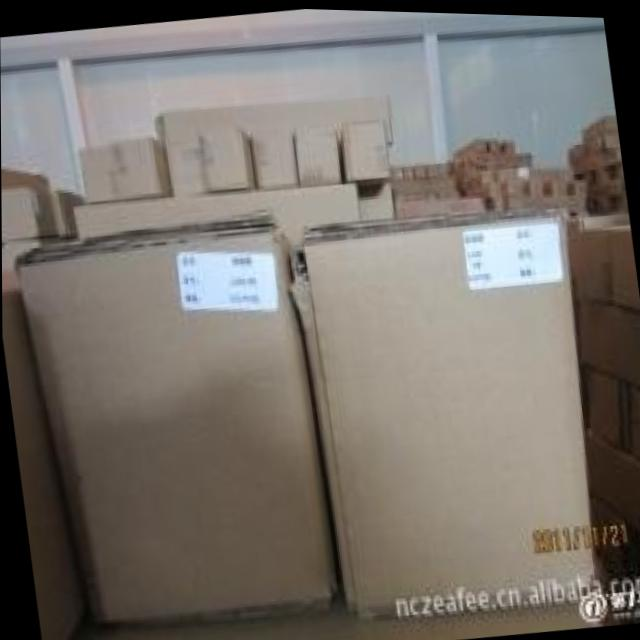box: (14, 229, 337, 626), (290, 212, 596, 617), (73, 180, 360, 254), (153, 92, 391, 142), (76, 134, 172, 204), (584, 427, 640, 527), (574, 297, 628, 379), (1, 170, 59, 242), (582, 360, 628, 447), (565, 211, 608, 297), (201, 130, 257, 192), (290, 124, 344, 186), (163, 131, 209, 199), (248, 125, 298, 187), (340, 116, 389, 178), (584, 220, 618, 301), (392, 194, 485, 218), (51, 189, 86, 239), (355, 180, 394, 221)
